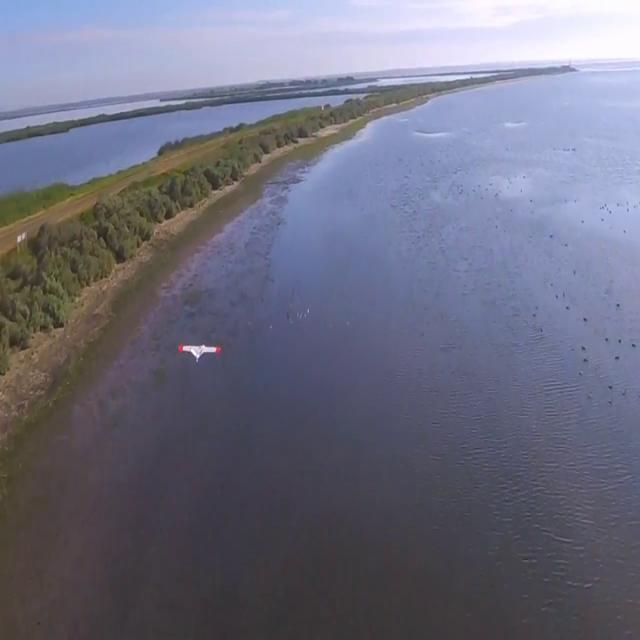iha: (171, 339, 216, 365)
